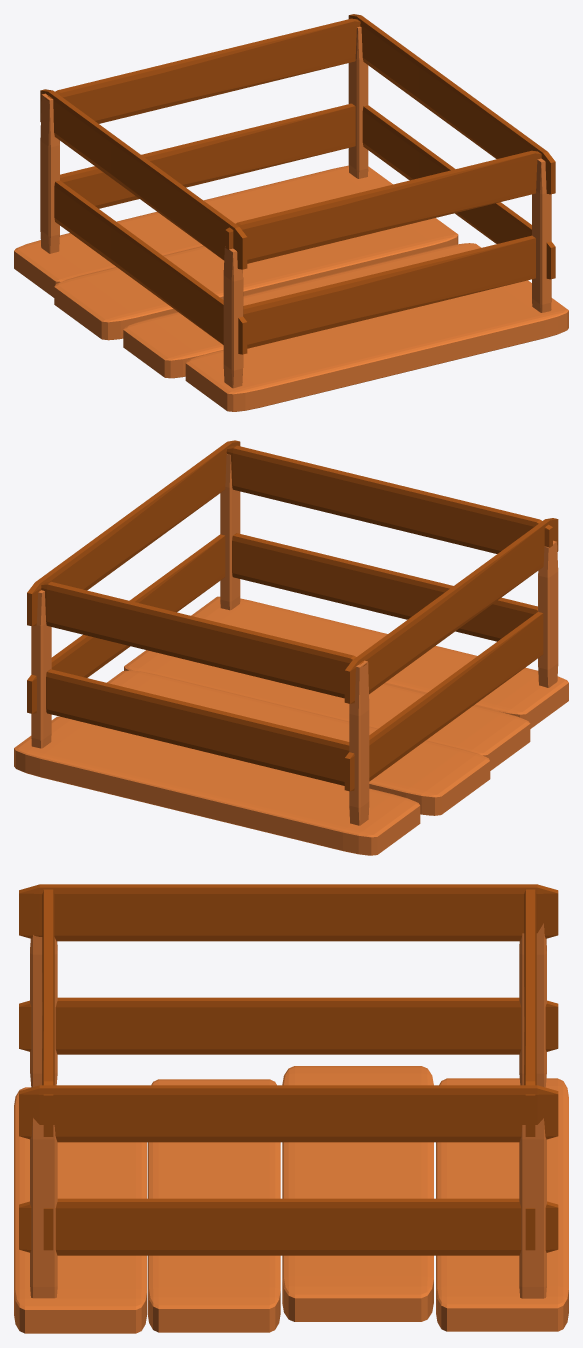
The model's file is woodenTower_g0.fbx.
3 views of the same model, one above another, from view 1: azimuth 30°, elevation 25°; view 2: azimuth 150°, elevation 25°; view 3: azimuth 270°, elevation 25° (orthographic). The views are drawn at different scales.
Visible parts, largest first — view 1: WoodenTower_g0; view 2: WoodenTower_g0; view 3: WoodenTower_g0.
Boxes of the visible parts, left/top/right/bottom form: WoodenTower_g0: left=14, top=14, right=568, bottom=411; WoodenTower_g0: left=14, top=440, right=568, bottom=855; WoodenTower_g0: left=14, top=884, right=568, bottom=1333.
Bounding box in the file's own units: 312 × 146 × 307.
